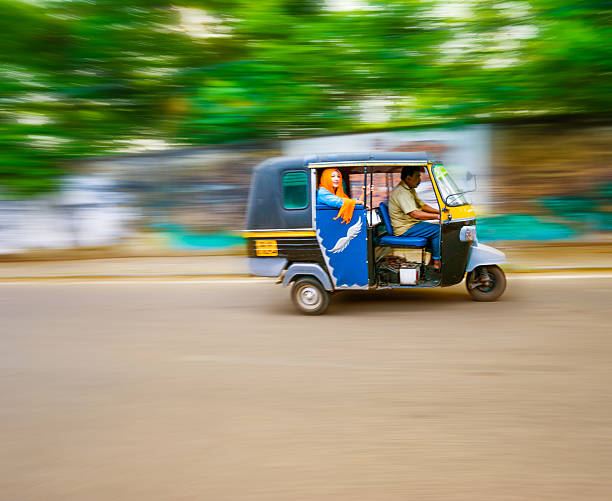threewheel: (242, 150, 508, 315)
